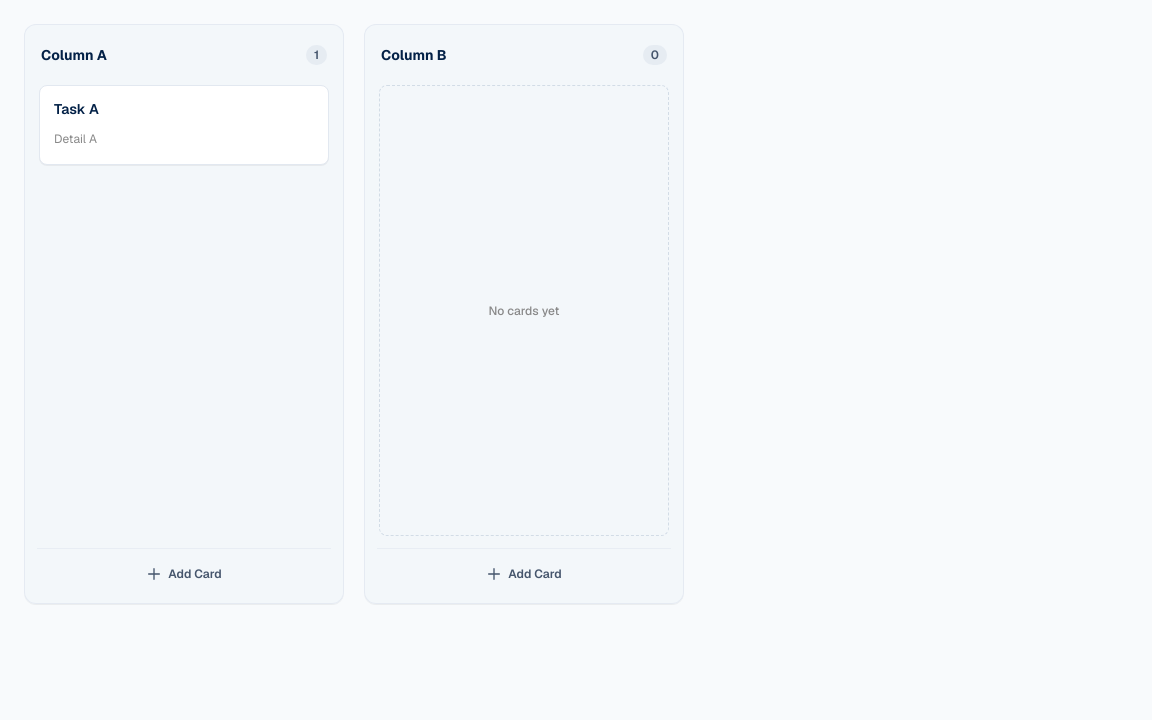
Test: Board component › opens modal and adds a new card to a column
Step 1. Click the 1st button "Add Card" → (184, 574), box [37, 557, 331, 591]
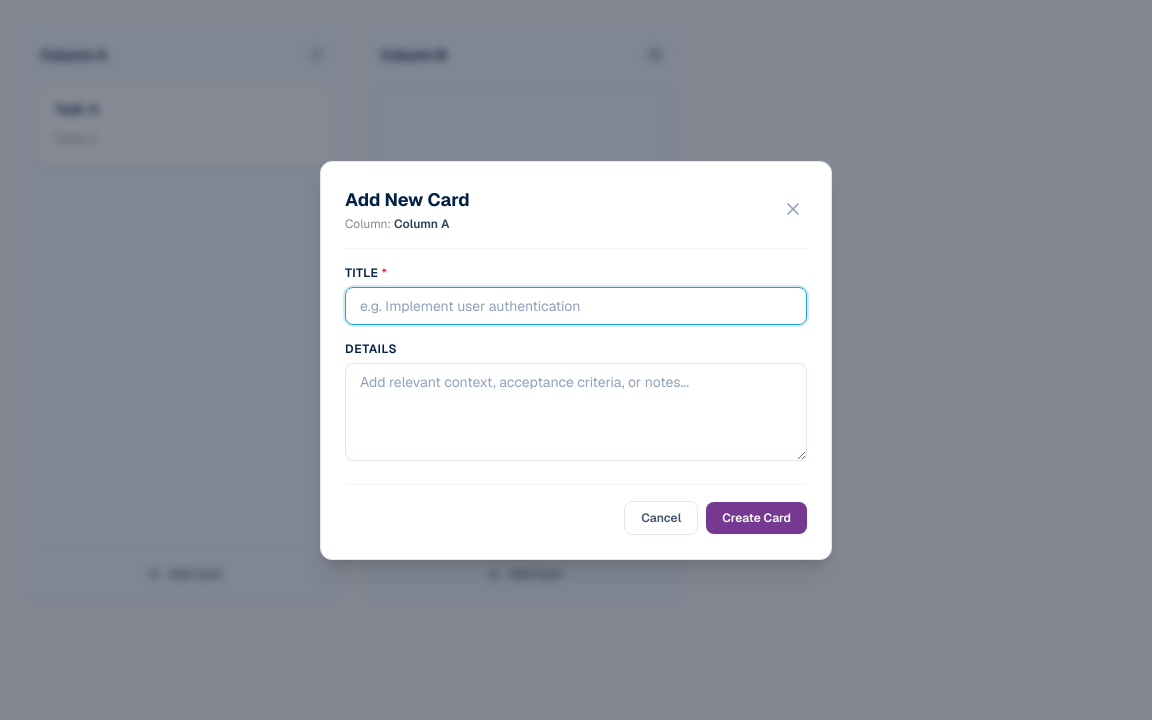
Now the heading "Add New Card" is shown, box [345, 186, 470, 214]
Step 2. Type "Brand New Feature" into the field with placeholder "e.g. Implement user authentication" → (576, 306), box [345, 286, 807, 324]
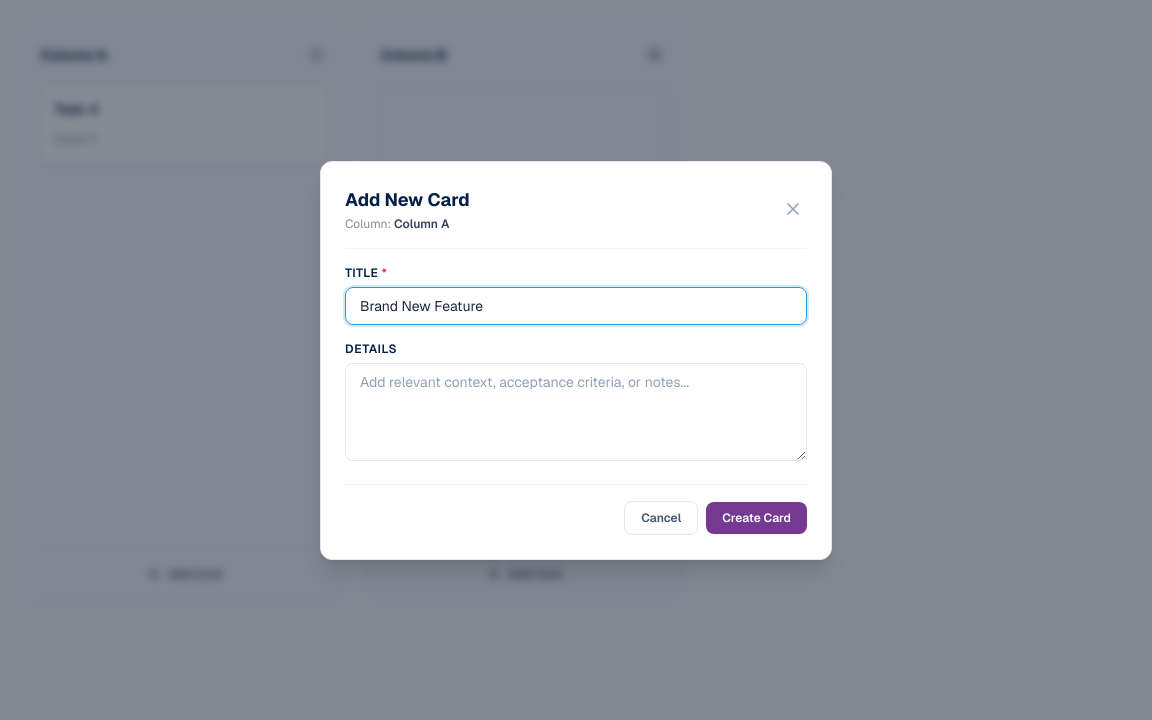
Step 3. Click the button "Create Card" → (757, 518), box [706, 502, 807, 534]
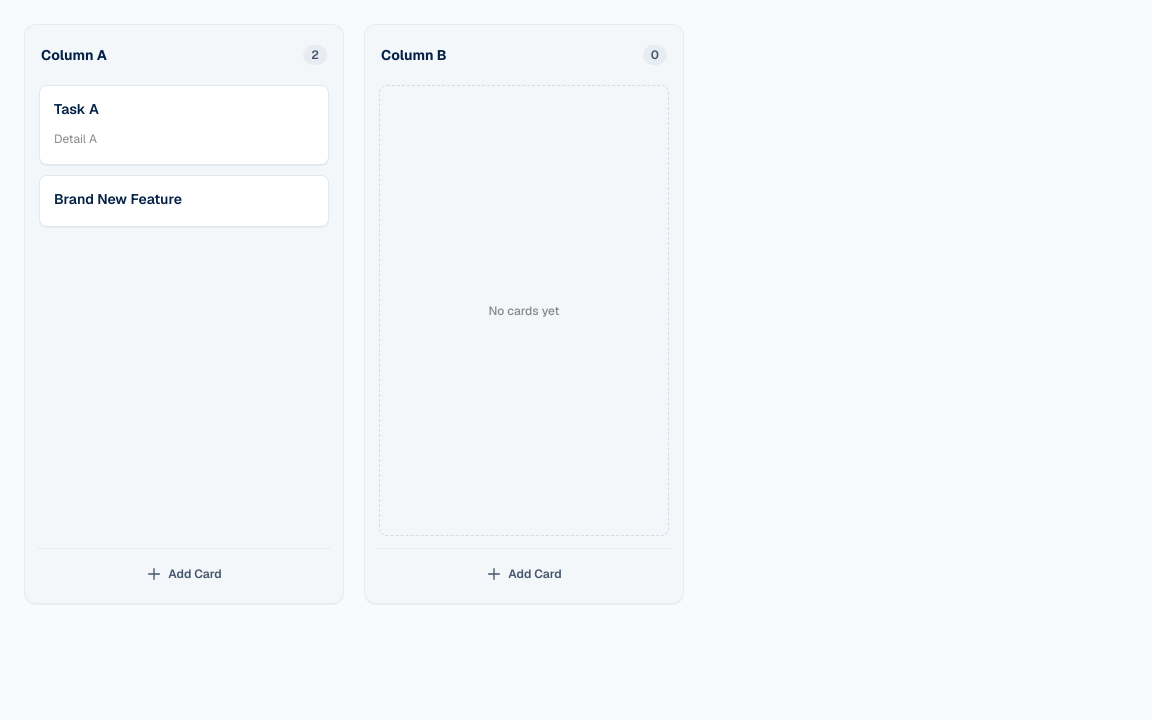
Now the heading "Brand New Feature" is shown, box [54, 190, 182, 209]
